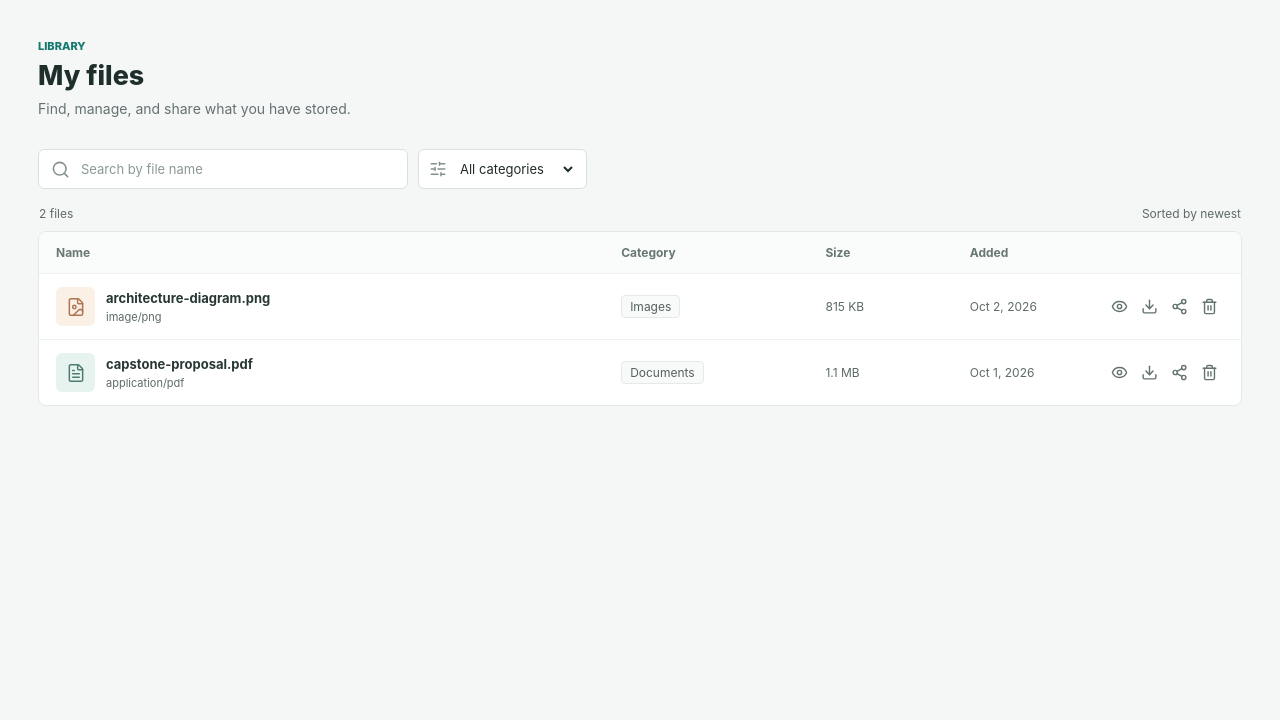
Test: file actions › explains a missing file in the download dialog without opening a link
This screenshot has width=1280, height=720.
Click the button named "Download capstone-proposal.pdf": coordinates (1150, 373) [1135,358,1164,387]
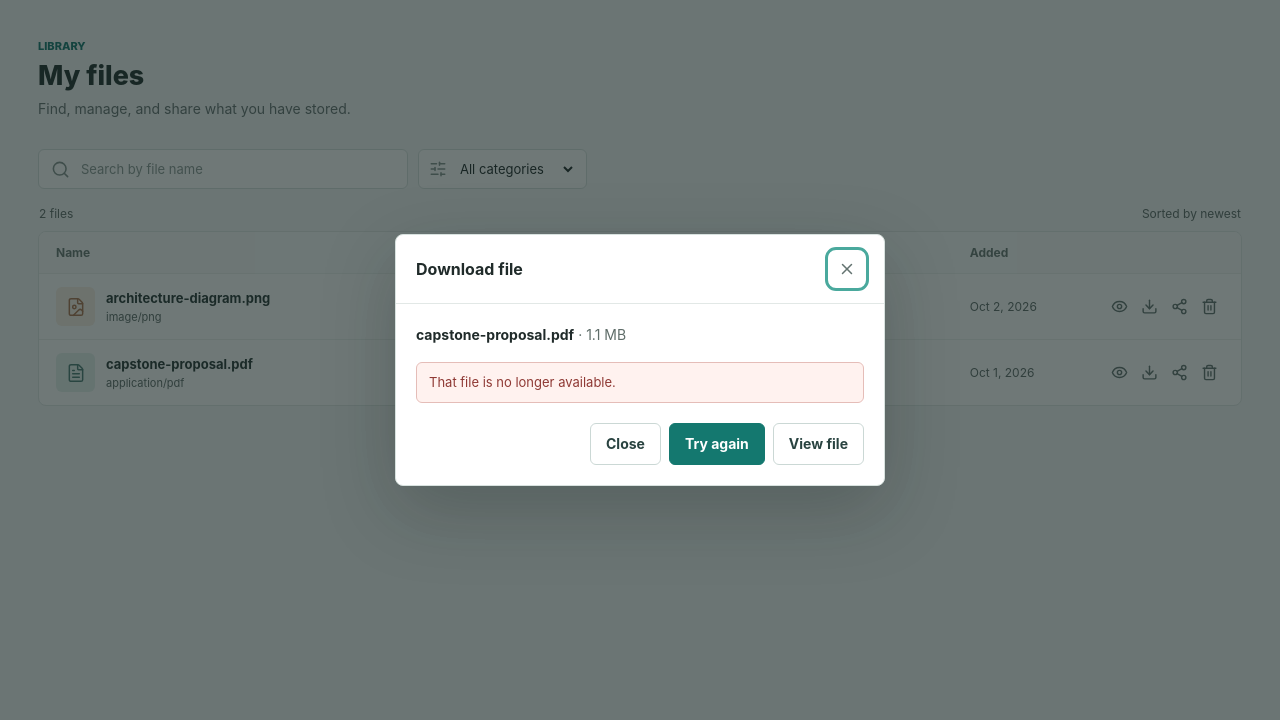
expect the text "That file is no longer available." is shown: met, box [416,362,864,403]
expect the dialog "Download file" is shown: met, box [395,234,885,486]
